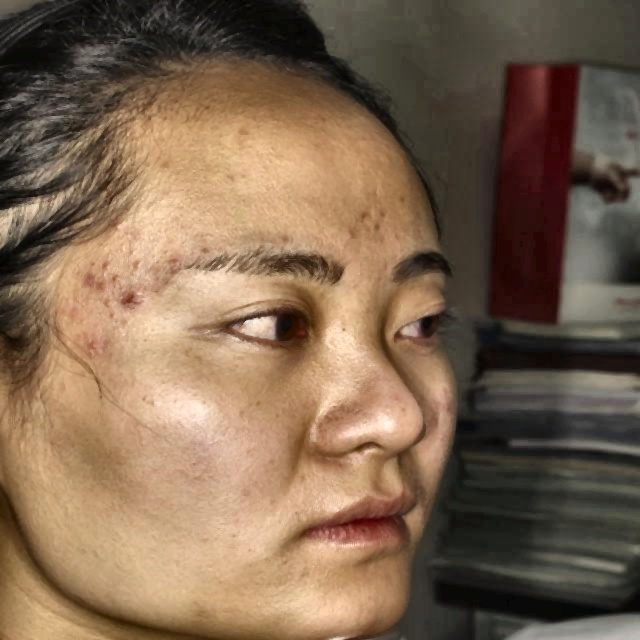pustule: (74, 334, 106, 356), (120, 289, 149, 310), (355, 211, 385, 228), (77, 266, 96, 289), (101, 279, 120, 296), (96, 256, 112, 270)
